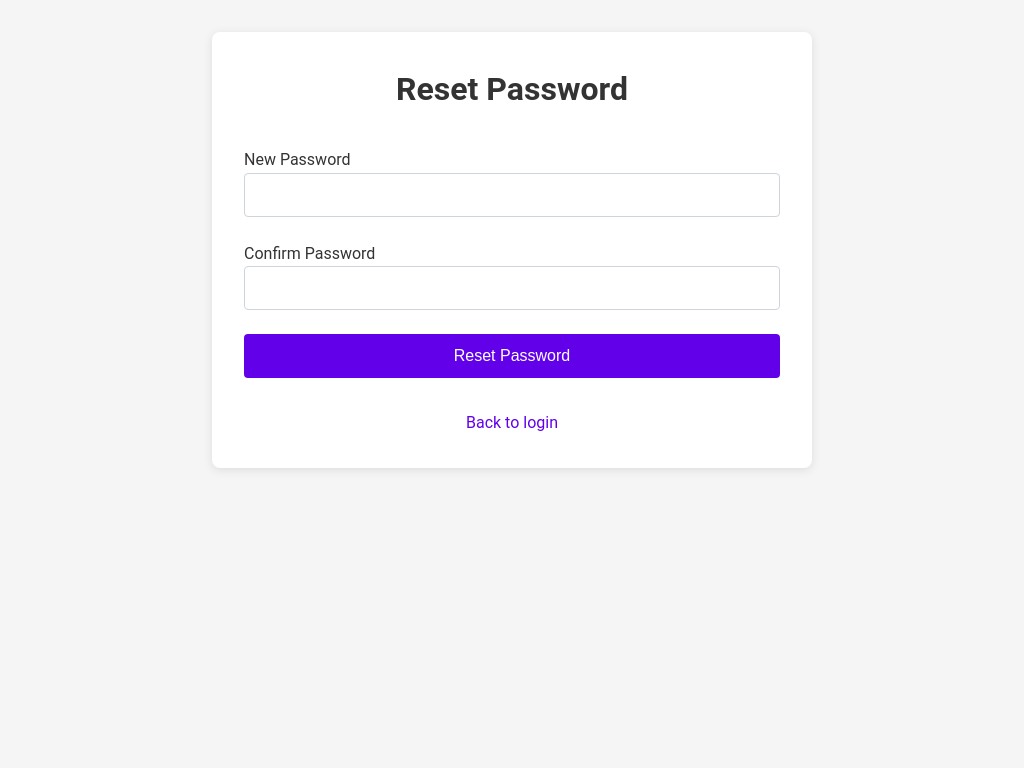
Test case: ResetPassword submit flow › redirects to login with a success message on 200
In the password field labelled "New Password": (512, 195) [244, 173, 780, 217], type "newSecret1"
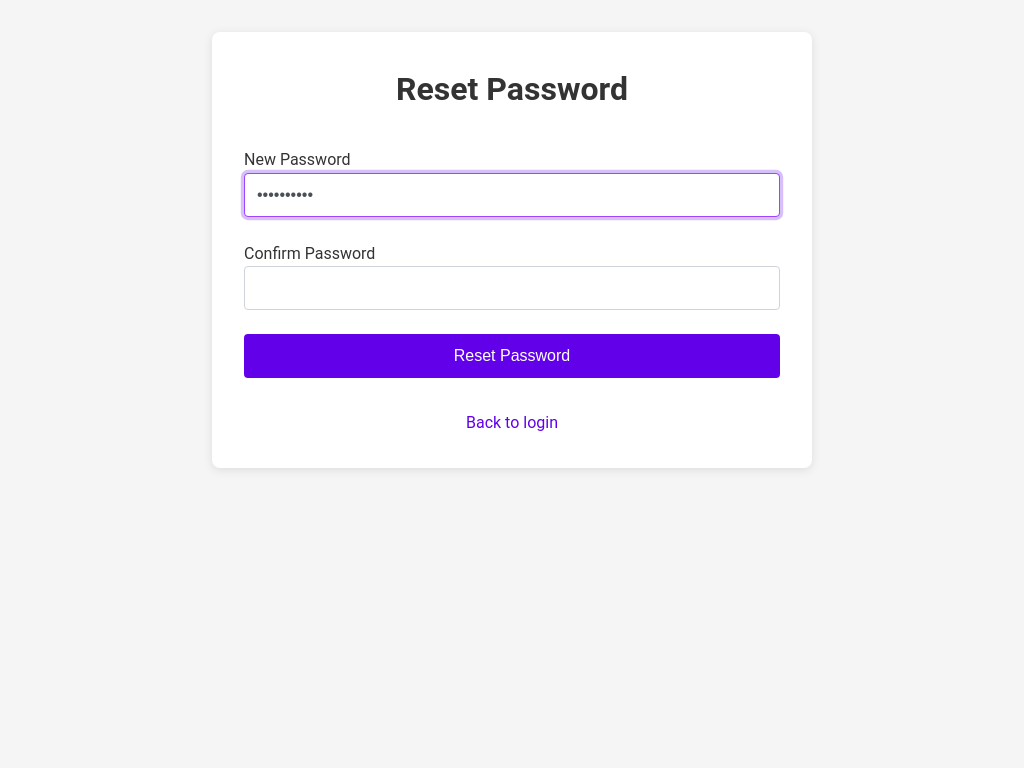
In the password field labelled "Confirm Password": (512, 288) [244, 266, 780, 310], type "newSecret1"
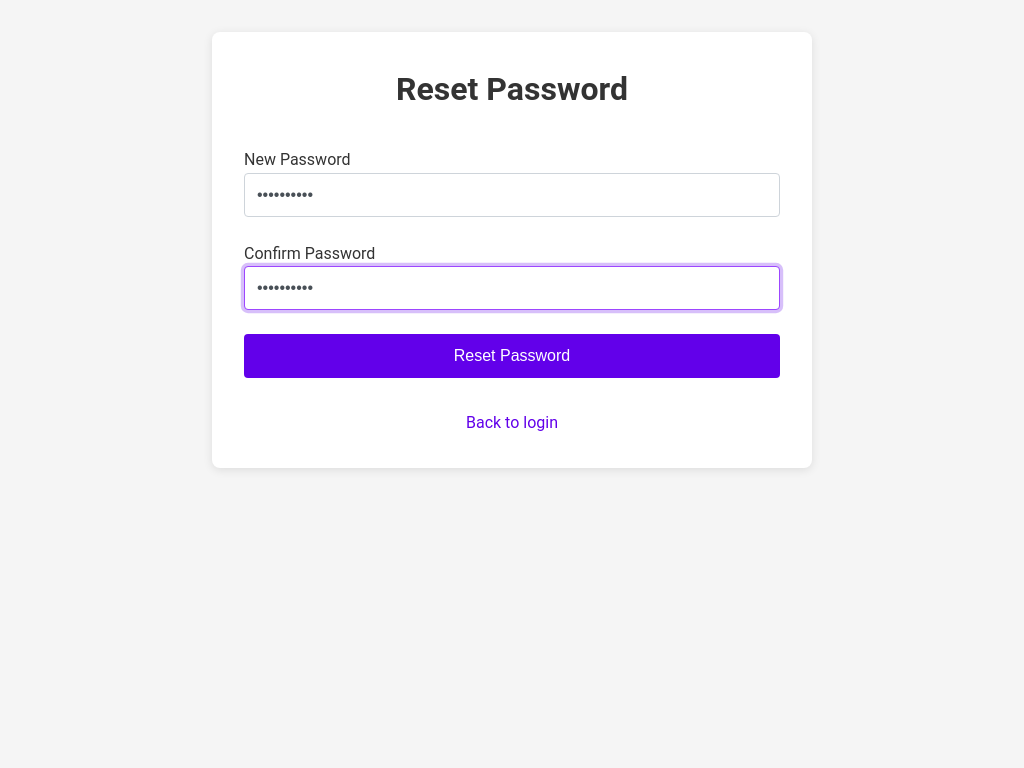
Click the button "Reset Password": (512, 356) [244, 334, 780, 378]
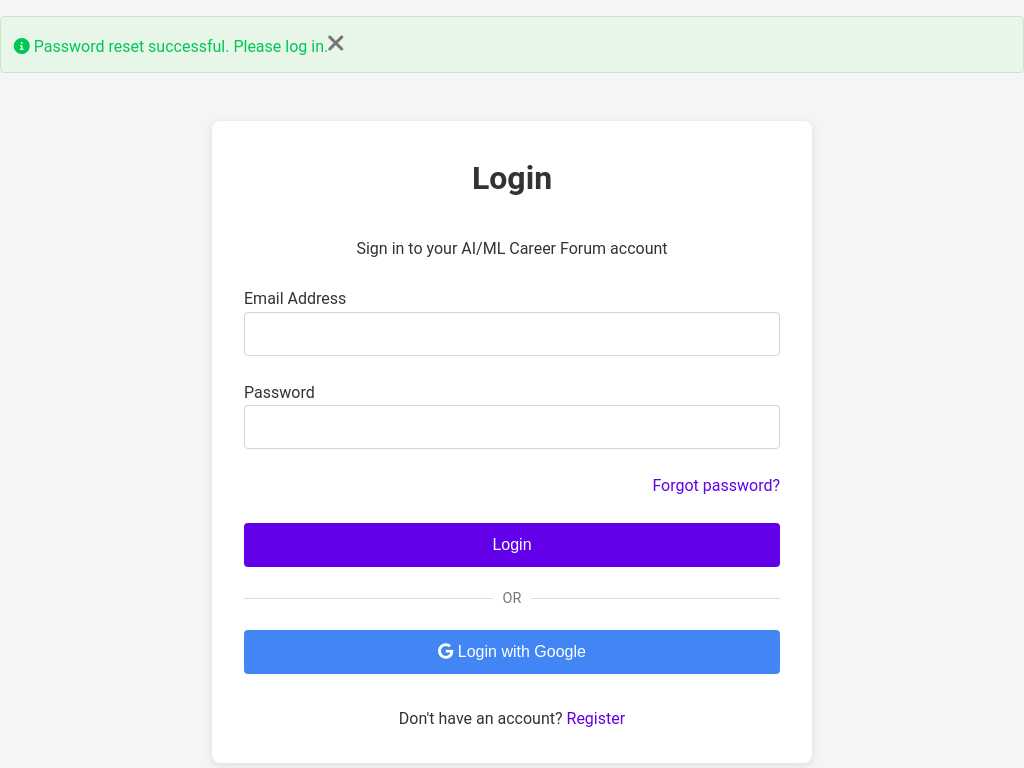
Expected: the text "Sign in to your AI/ML Career Forum account" is shown, [356, 239, 668, 258]
Expected: the text "Password reset successful. Please log in." is shown, [0, 16, 1023, 73]
